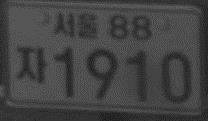0: (160, 50, 192, 105)
1: (122, 48, 156, 103), (52, 47, 82, 97)
8: (108, 13, 129, 40), (131, 14, 152, 41)
9: (85, 47, 117, 101)
서울_H: (54, 12, 99, 39)
자: (15, 45, 48, 84)
